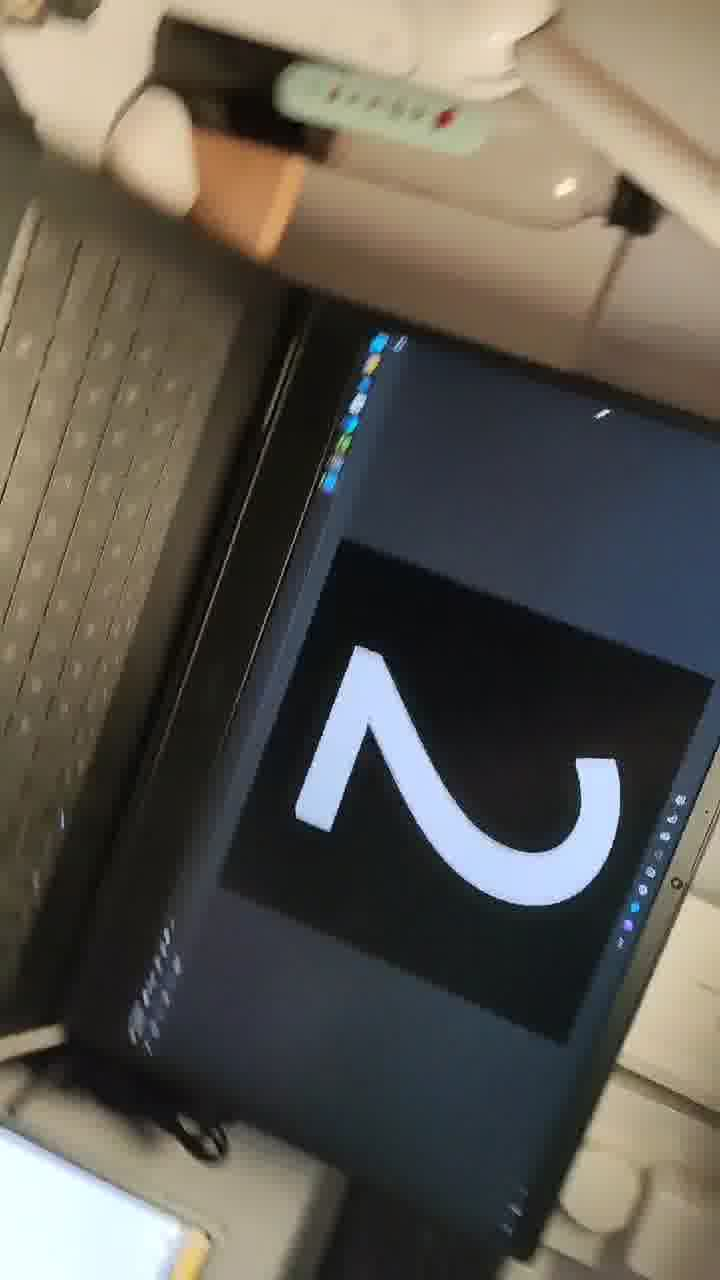two: (268, 613, 612, 933)
